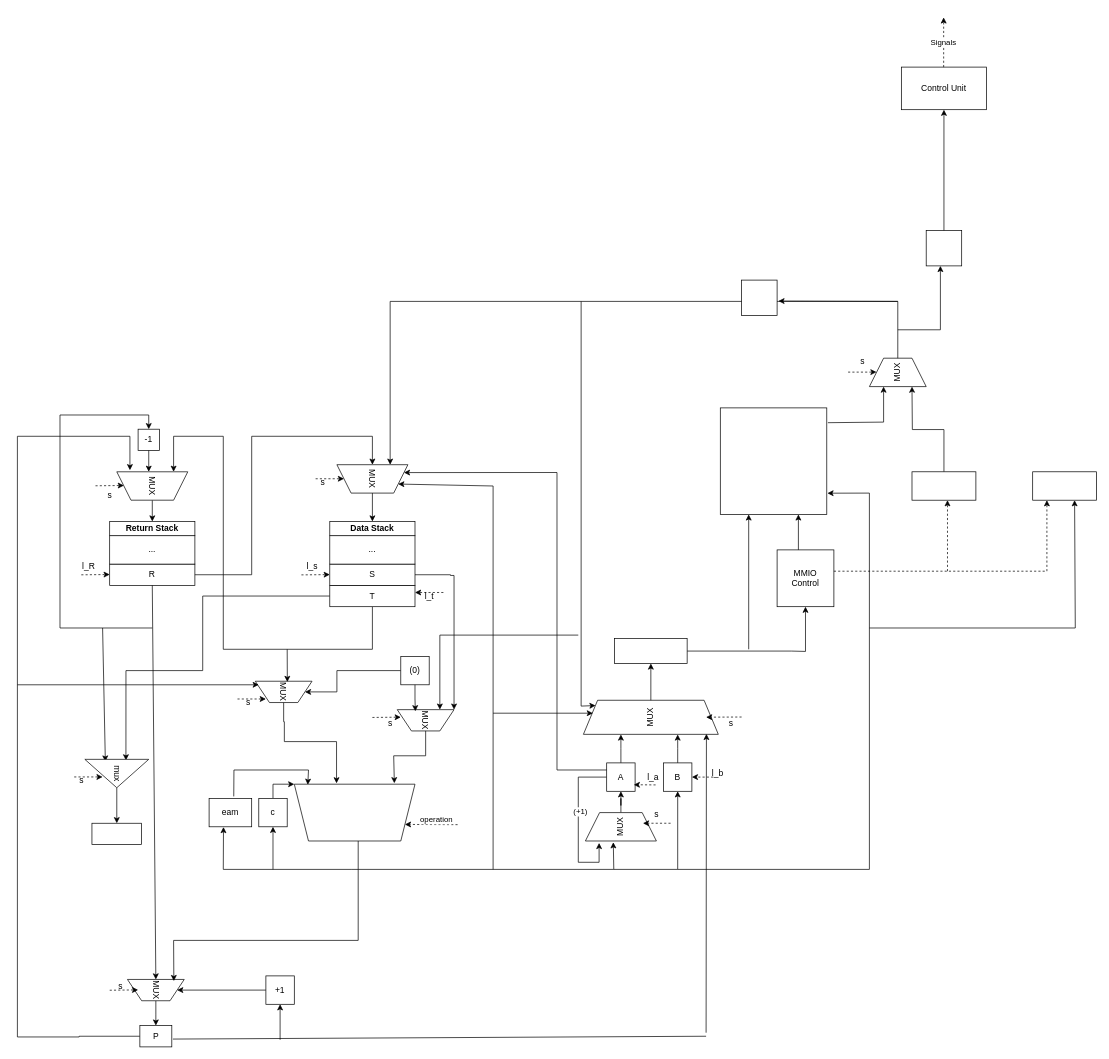
Some shapes in this 1109 by 1059 pixel diagram are drawn without their labels. The box of each missing label's shape, as (x1, y1, x2, y2) in pixels:
Adress Dec: (614, 638, 687, 663)
ALU: (294, 783, 415, 841)
cond: (91, 823, 142, 845)
DR: (741, 279, 777, 316)
IDev: (911, 471, 976, 500)
IR: (925, 230, 962, 266)
Mem: (720, 407, 827, 514)
ODev: (1032, 471, 1097, 500)
